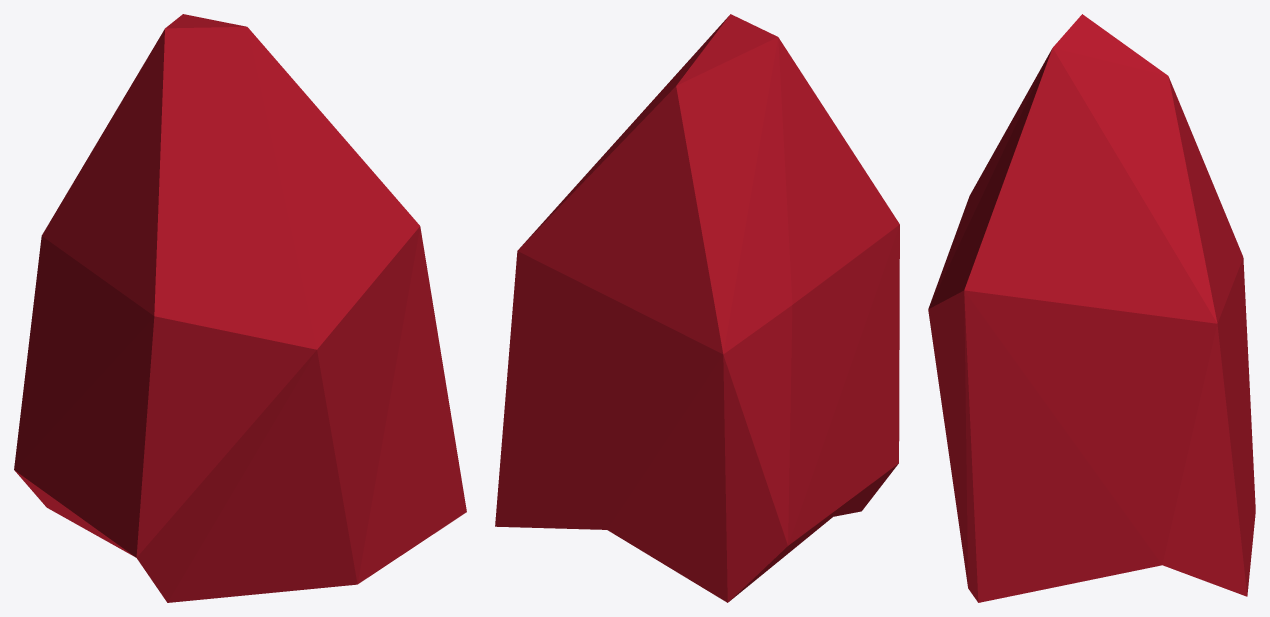
The model's file is tree-dead-leaves-7-051.glb.
The picture shows the model from 3 angles, left to right: view 1: azimuth 30°, elevation 25°; view 2: azimuth 150°, elevation 25°; view 3: azimuth 270°, elevation 25°; orthographic projection. The views are drawn at different scales.
Visible parts, largest first — view 1: TREE 7.007_518; view 2: TREE 7.007_518; view 3: TREE 7.007_518.
Part boxes in pixels (bbox=[...]): TREE 7.007_518: bbox=[14, 14, 466, 602]; TREE 7.007_518: bbox=[495, 14, 899, 602]; TREE 7.007_518: bbox=[928, 14, 1255, 602].
Bounding box in the file's own units: 0.7087 × 1.11 × 0.6447.
